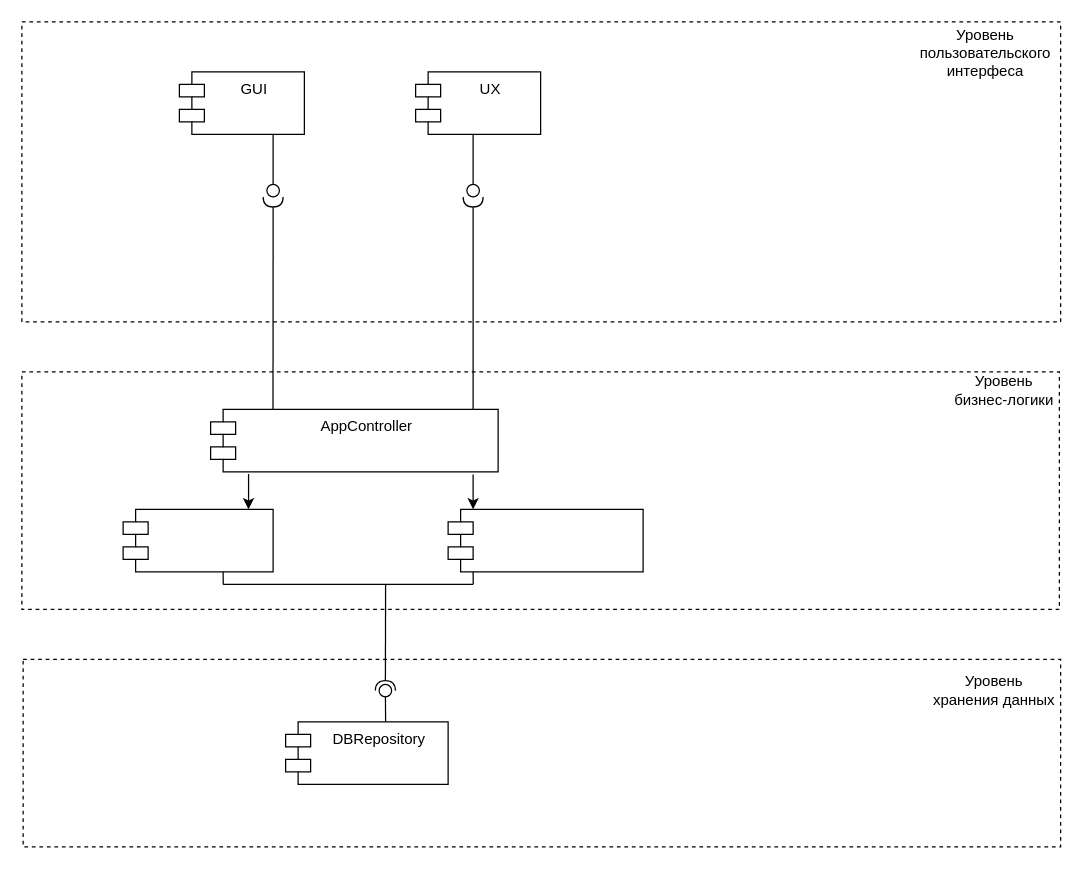
Image size: 1083x869. Some labels were removed from this diagram. Each missing label, with the centre of its shape:
"ChatController" belongs at point (197, 540).
"NotificationController" belongs at point (545, 540).
